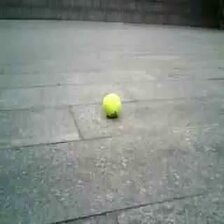tennis: (103, 93, 122, 116)
